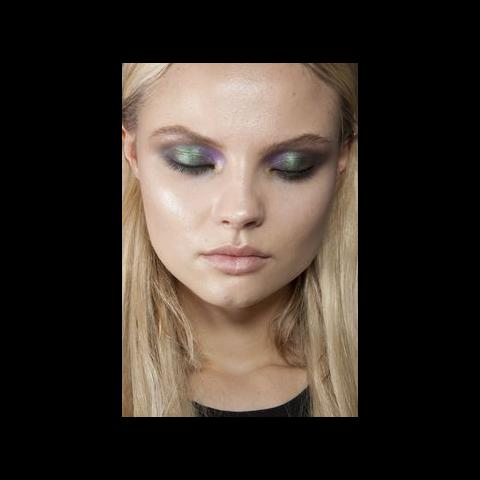closed: (146, 116, 336, 202)
